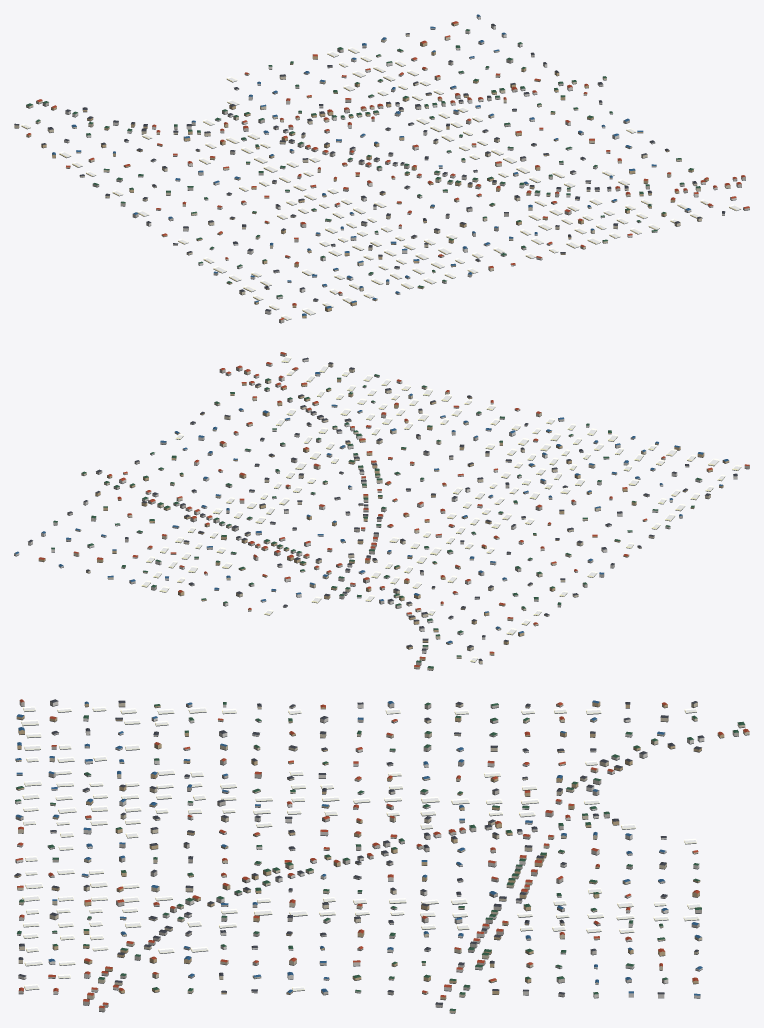
File: buildings_T_E00_S05.glb
3 views of the same model, one above another, from view 1: azimuth 30°, elevation 25°; view 2: azimuth 150°, elevation 25°; view 3: azimuth 270°, elevation 25° (orthographic). The views are drawn at different scales.
Visible parts, largest first — view 1: T_E00_S05_slope_seating_foundations, T_E00_S05_roofs_agri_greenhouse_arch, T_E00_S05_walls_wall_pastel_sand_gray, T_E00_S05_walls_wall_dalat_cream_stucco, T_E00_S05_walls_wall_french_ochre_villa, T_E00_S05_roofs_roof_slate_French_villa_hip, T_E00_S05_walls_wall_modern_warm_white, T_E00_S05_roofs_roof_terracotta_gable, T_E00_S05_roofs_roof_pine_green_hip, T_E00_S05_roofs_roof_highland_blue_gable; view 2: T_E00_S05_slope_seating_foundations, T_E00_S05_roofs_agri_greenhouse_arch, T_E00_S05_walls_wall_dalat_cream_stucco, T_E00_S05_walls_wall_pastel_sand_gray, T_E00_S05_walls_wall_french_ochre_villa, T_E00_S05_roofs_roof_slate_French_villa_hip, T_E00_S05_walls_wall_modern_warm_white, T_E00_S05_roofs_roof_terracotta_gable, T_E00_S05_roofs_roof_pine_green_hip, T_E00_S05_roofs_roof_highland_blue_gable; view 3: T_E00_S05_slope_seating_foundations, T_E00_S05_roofs_agri_greenhouse_arch, T_E00_S05_walls_wall_pastel_sand_gray, T_E00_S05_walls_wall_dalat_cream_stucco, T_E00_S05_walls_wall_french_ochre_villa, T_E00_S05_roofs_roof_slate_French_villa_hip, T_E00_S05_walls_wall_modern_warm_white, T_E00_S05_roofs_roof_terracotta_gable, T_E00_S05_roofs_roof_pine_green_hip, T_E00_S05_roofs_roof_highland_blue_gable.
Part boxes in pixels (x1,y1,x2,y2): T_E00_S05_slope_seating_foundations: (14,18,749,323); T_E00_S05_roofs_agri_greenhouse_arch: (21,47,741,319); T_E00_S05_walls_wall_pastel_sand_gray: (42,41,749,322); T_E00_S05_walls_wall_dalat_cream_stucco: (14,34,730,294); T_E00_S05_walls_wall_french_ochre_villa: (26,22,708,317); T_E00_S05_roofs_roof_slate_French_villa_hip: (14,23,725,311); T_E00_S05_walls_wall_modern_warm_white: (64,16,736,314); T_E00_S05_roofs_roof_terracotta_gable: (26,21,749,319); T_E00_S05_roofs_roof_pine_green_hip: (26,29,700,296); T_E00_S05_roofs_roof_highland_blue_gable: (52,14,690,315); T_E00_S05_slope_seating_foundations: (14,355,749,670); T_E00_S05_roofs_agri_greenhouse_arch: (141,356,741,661); T_E00_S05_walls_wall_dalat_cream_stucco: (73,363,710,670); T_E00_S05_walls_wall_pastel_sand_gray: (66,353,749,665); T_E00_S05_walls_wall_french_ochre_villa: (38,378,729,660); T_E00_S05_roofs_roof_slate_French_villa_hip: (28,357,737,660); T_E00_S05_walls_wall_modern_warm_white: (14,359,737,653); T_E00_S05_roofs_roof_terracotta_gable: (38,352,749,666); T_E00_S05_roofs_roof_pine_green_hip: (51,374,701,668); T_E00_S05_roofs_roof_highland_blue_gable: (15,372,728,643); T_E00_S05_slope_seating_foundations: (14,705,749,1013); T_E00_S05_roofs_agri_greenhouse_arch: (21,706,701,990); T_E00_S05_walls_wall_pastel_sand_gray: (15,701,738,1011); T_E00_S05_walls_wall_dalat_cream_stucco: (17,702,749,1013); T_E00_S05_walls_wall_french_ochre_villa: (14,701,724,999); T_E00_S05_roofs_roof_slate_French_villa_hip: (14,699,704,1004); T_E00_S05_walls_wall_modern_warm_white: (15,701,704,997); T_E00_S05_roofs_roof_terracotta_gable: (16,699,749,1008); T_E00_S05_roofs_roof_pine_green_hip: (15,702,744,1010); T_E00_S05_roofs_roof_highland_blue_gable: (15,700,702,995).
Size of the model in its own units: 1854 by 35.66 by 1871.
